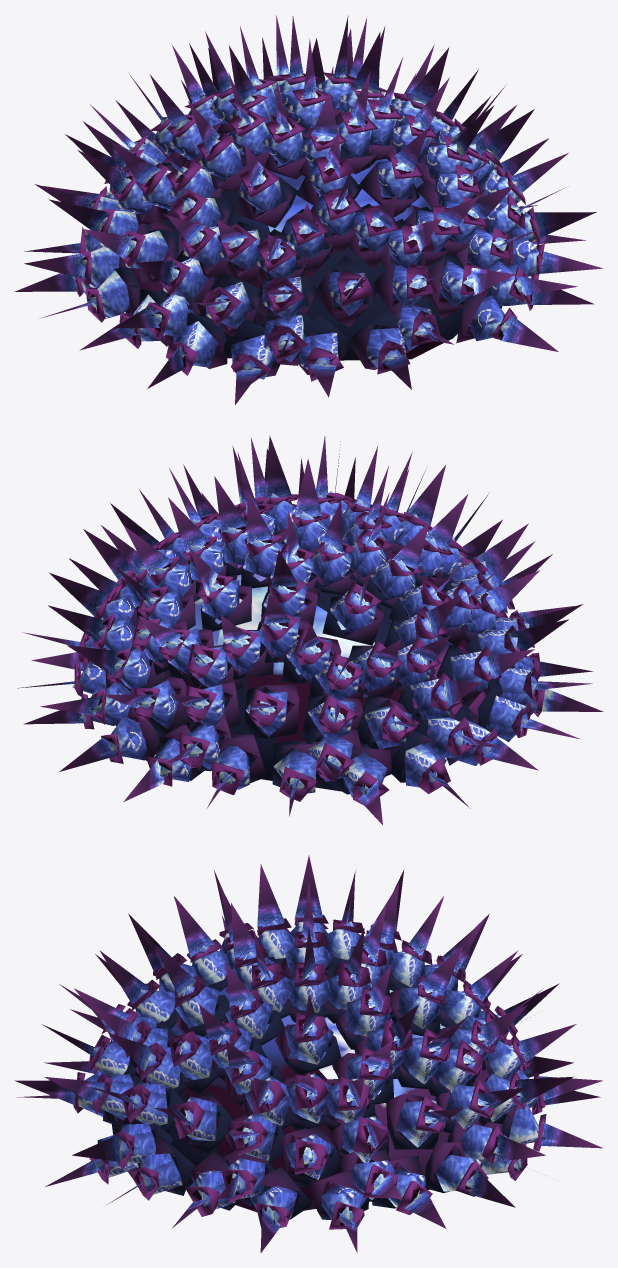
File: spike.obj
3 renders of one model, top to bottom at view 1: azimuth 30°, elevation 25°; view 2: azimuth 150°, elevation 25°; view 3: azimuth 270°, elevation 25°, orthographic.
Parts seen in each view (by area): view 1: Icosphere.005; view 2: Icosphere.005; view 3: Icosphere.005.
Part boxes in pixels (<box>): Icosphere.005: <box>14,15,603,404</box>; Icosphere.005: <box>17,435,603,824</box>; Icosphere.005: <box>14,855,602,1252</box>.
Size of the model in its own units: 2.75 by 1.43 by 2.76.
